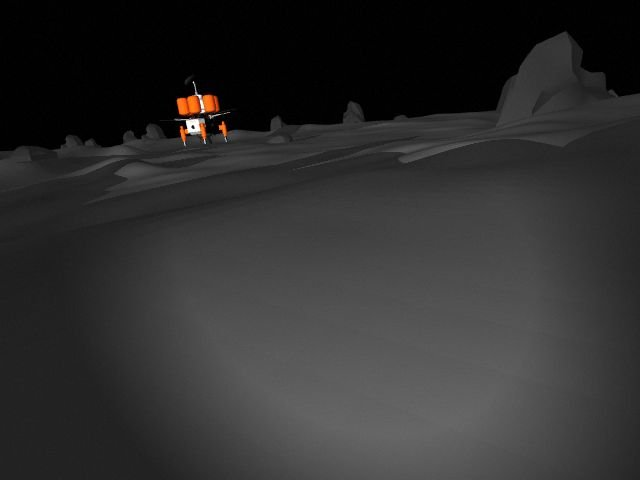homebase: (150, 72, 243, 148)
